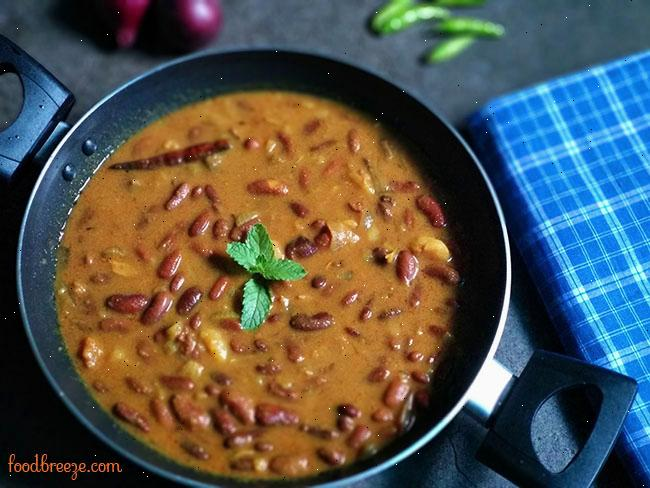rajma: (79, 99, 495, 483)
